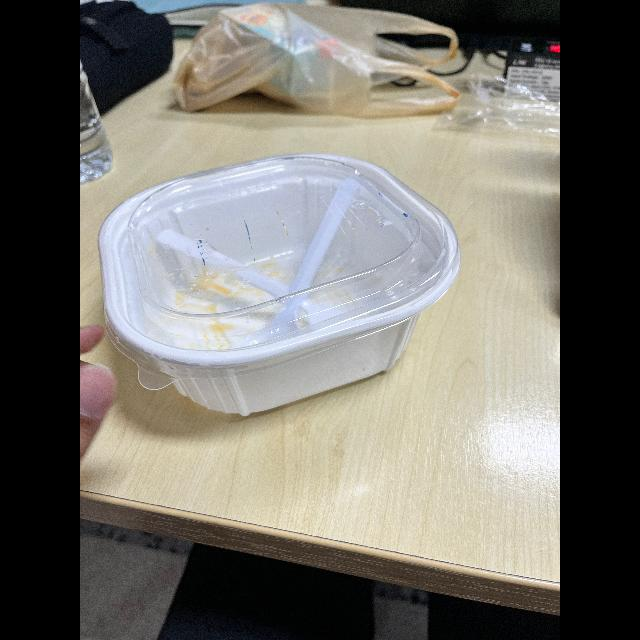plastic_box: (94, 148, 473, 418)
